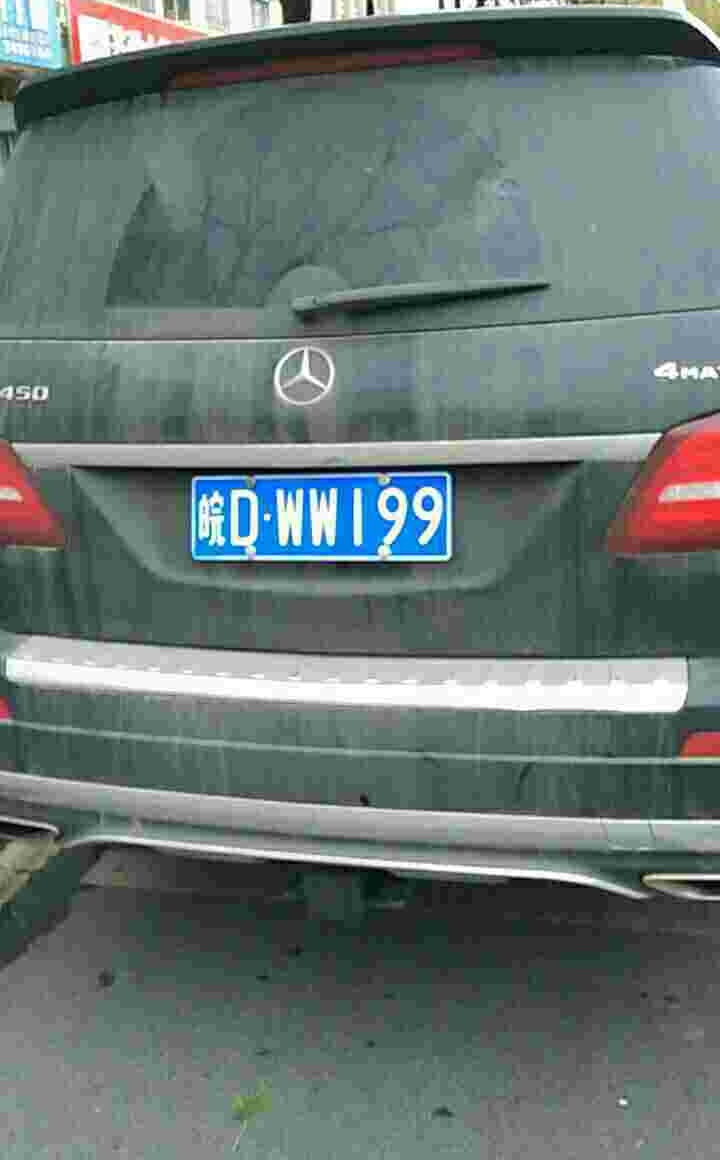license_plate: (189, 468, 458, 564)
